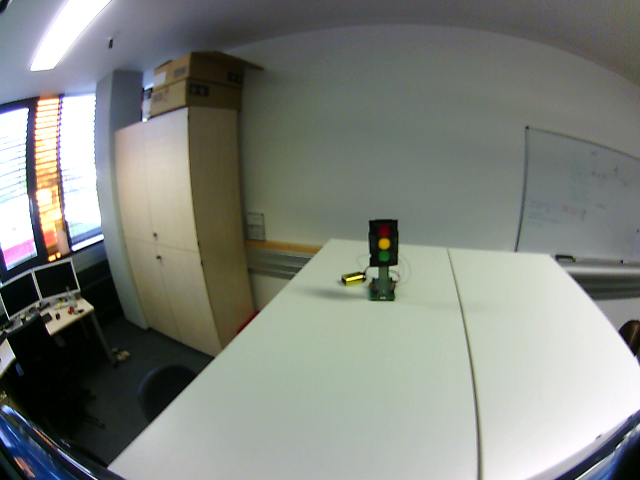yellow trafficlight: (371, 224, 396, 265)
